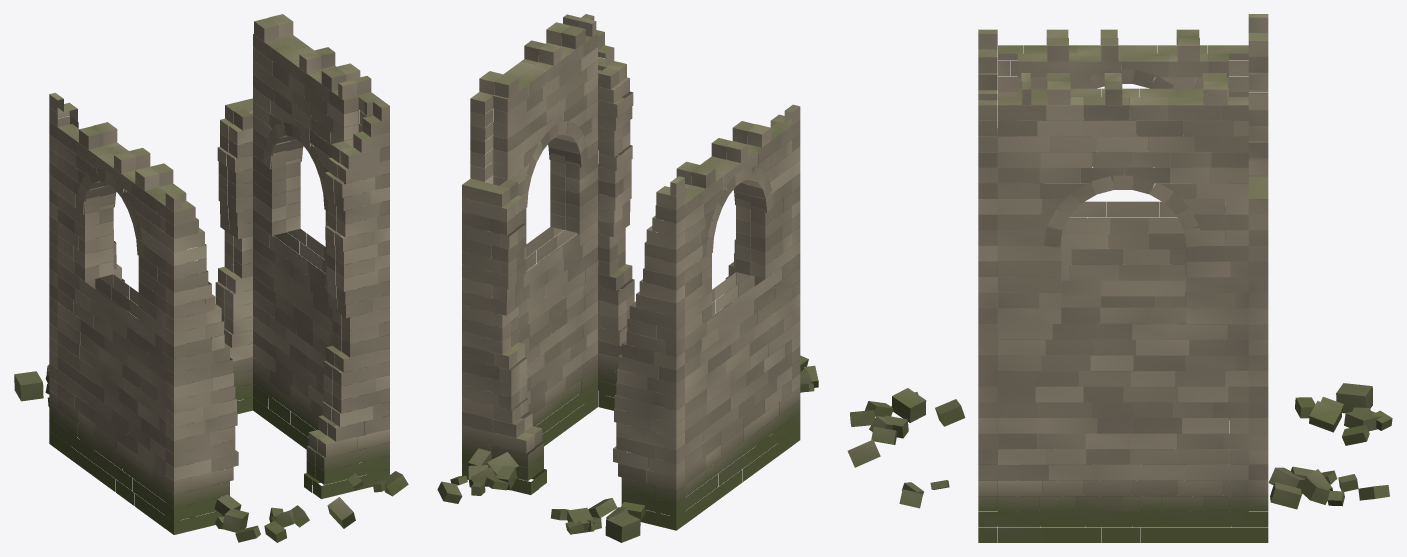
The model's file is citadel_tower_split_mid.glb.
The picture shows the model from 3 angles, left to right: view 1: azimuth 30°, elevation 25°; view 2: azimuth 150°, elevation 25°; view 3: azimuth 270°, elevation 25°; orthographic projection. The views are drawn at different scales.
Visible parts, largest first — view 1: citadel_tower_split_mid; view 2: citadel_tower_split_mid; view 3: citadel_tower_split_mid.
Boxes of the visible parts, x1,y1,x2,y2 form: citadel_tower_split_mid: (14,14,408,542); citadel_tower_split_mid: (437,14,818,542); citadel_tower_split_mid: (847,14,1392,542).
Size of the model in its own units: 37.5 by 63.77 by 69.5.
